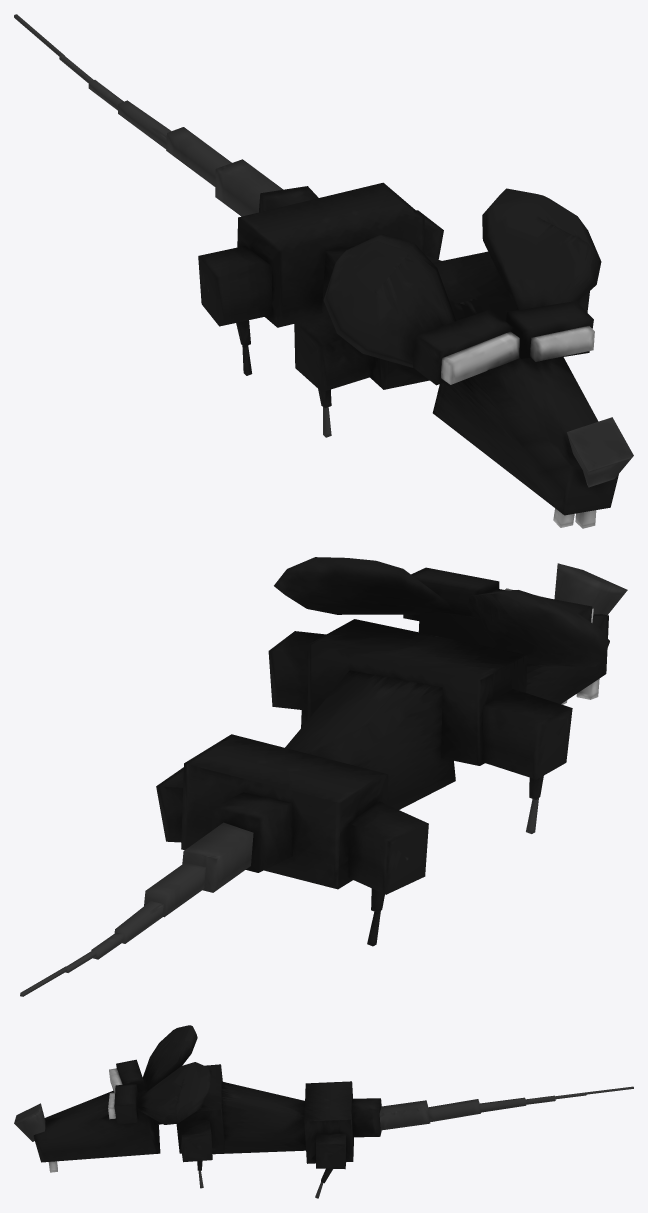
The picture shows the model from 3 angles, top to bottom: view 1: azimuth 30°, elevation 25°; view 2: azimuth 150°, elevation 25°; view 3: azimuth 270°, elevation 25°; orthographic projection. The views are drawn at different scales.
Parts seen in each view (by area): view 1: Paint.025; view 2: Paint.025; view 3: Paint.025.
Part boxes in pixels (left/top/right/bottom): Paint.025: left=14, top=14, right=633, bottom=528; Paint.025: left=20, top=557, right=627, bottom=996; Paint.025: left=14, top=1025, right=633, bottom=1198.
Bounding box in the file's own units: 0.2493 × 0.1999 × 0.8775.
Materials: 1 (1 with a texture image).
